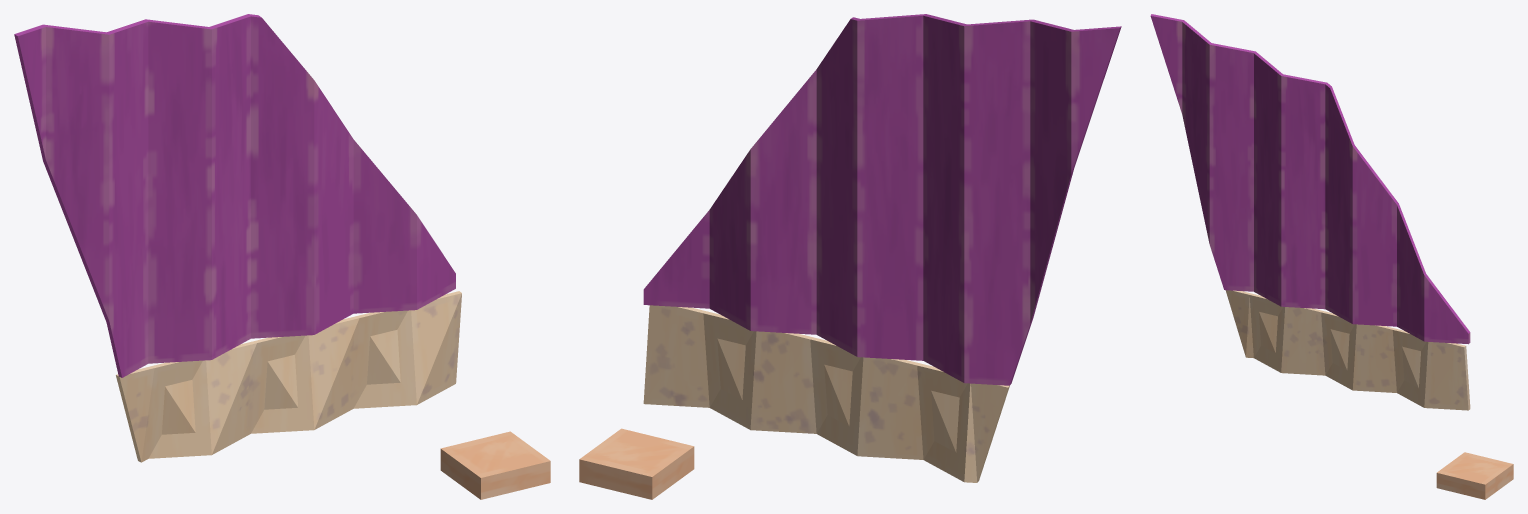
Rendered from rack_plum_s03.fbx.
The picture shows the model from 3 angles, left to right: view 1: azimuth 30°, elevation 25°; view 2: azimuth 150°, elevation 25°; view 3: azimuth 330°, elevation 25°; orthographic projection. The views are drawn at different scales.
Parts seen in each view (by area): view 1: rack_plum_s03; view 2: rack_plum_s03; view 3: rack_plum_s03.
Part boxes in pixels (x1,y1,x2,y2): rack_plum_s03: [14, 14, 550, 499]; rack_plum_s03: [579, 14, 1121, 499]; rack_plum_s03: [1150, 14, 1513, 499].
Size of the model in its own units: 7.26 by 7.53 by 1.
